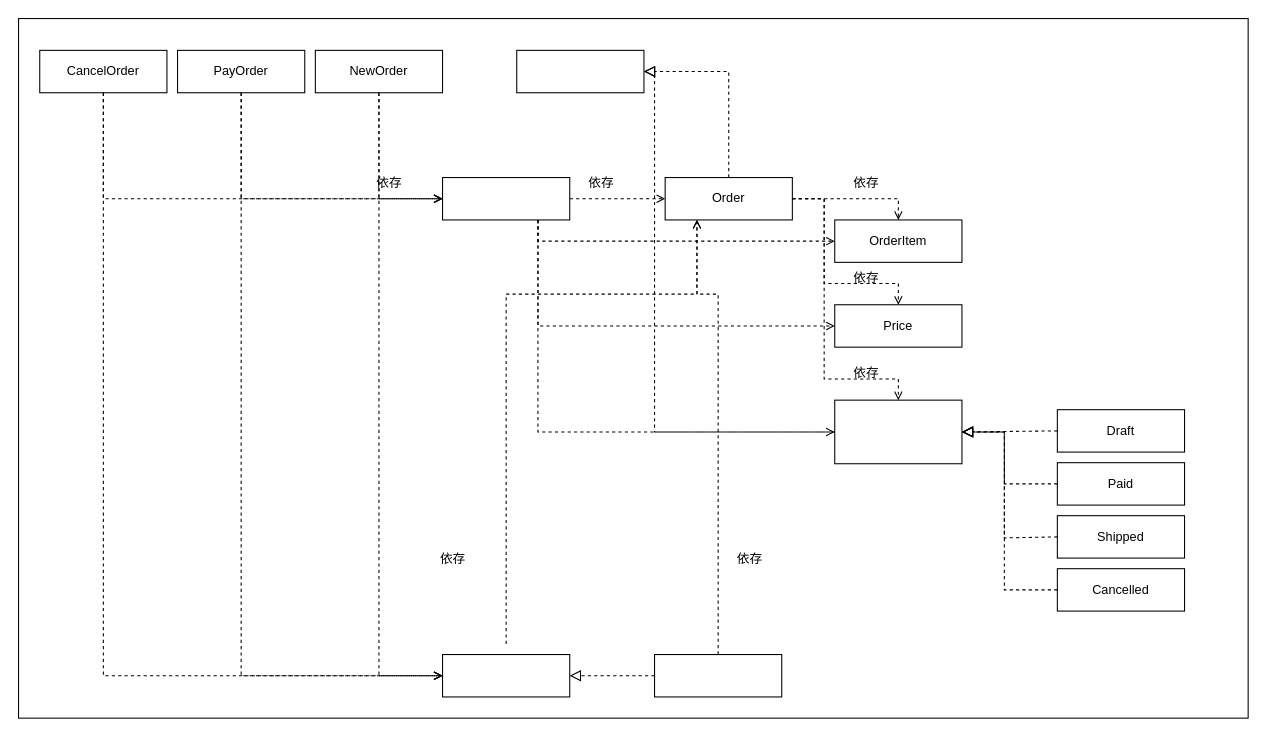
Some shapes in this 1267 by 737 pixel diagram are drawn without their labels. The centre of each missing label's shape, as x and y in pixels:
"Entities" goes at point 580,71.
"OrderLocalRepository" goes at point 717,675.
"OrderRepository" goes at point 505,675.
"OrderService" goes at point 505,198.
"OrderStatus - pay - cancel - ship" goes at point 898,431.
